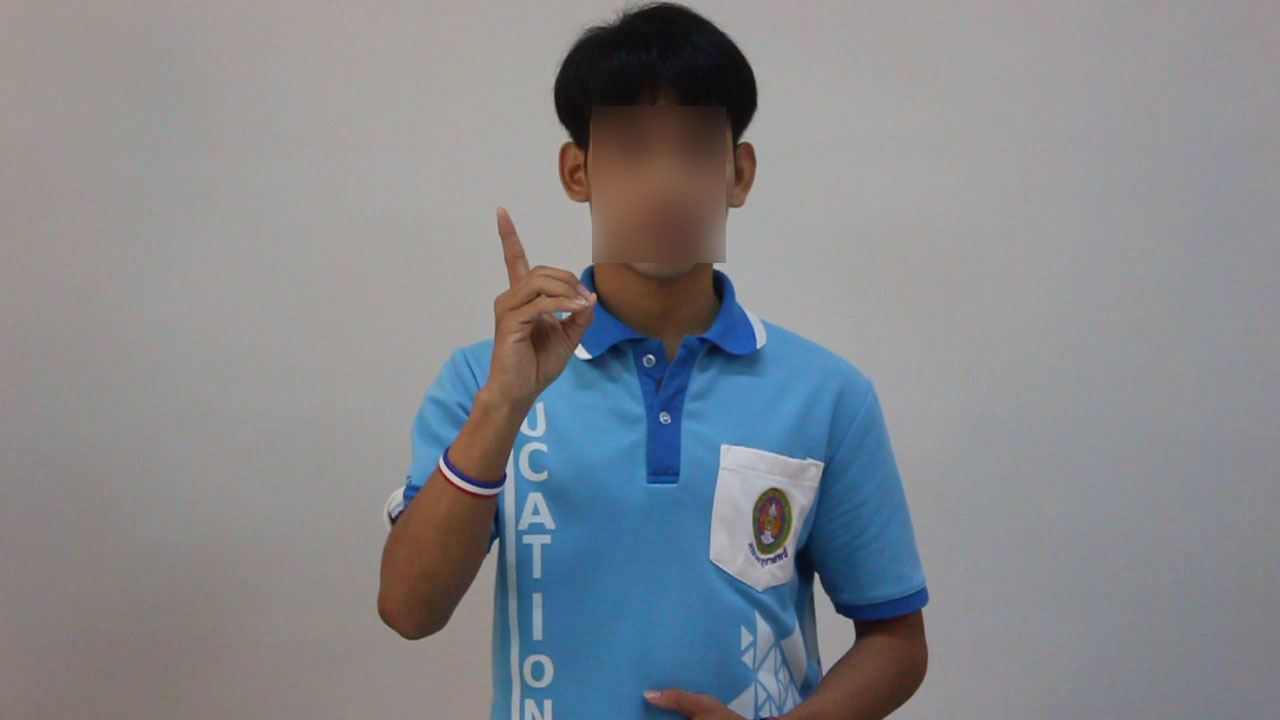dor: (466, 200, 600, 393)
